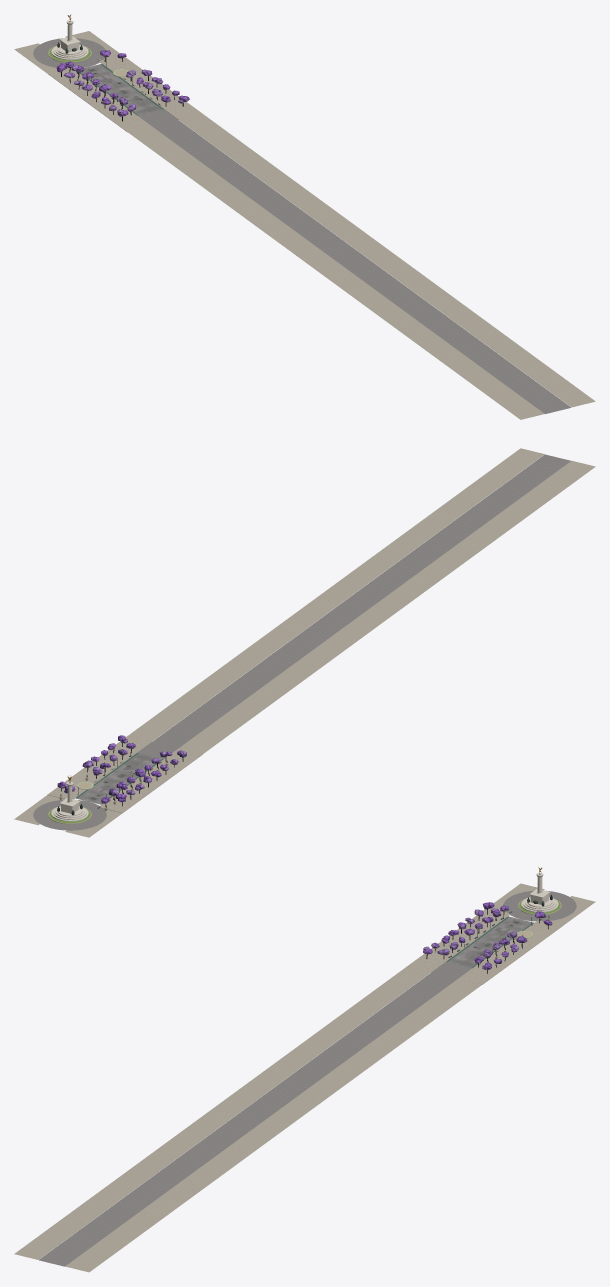
The model's file is lugar-cdmx.glb.
3 views of the same model, one above another, from view 1: azimuth 30°, elevation 25°; view 2: azimuth 150°, elevation 25°; view 3: azimuth 330°, elevation 25° (orthographic).
Parts seen in each view (by area): view 1: luzG-cerca, luzS-pista, vert-cerca; view 2: luzG-cerca, luzS-pista, vert-cerca; view 3: luzG-cerca, luzS-pista, vert-cerca.
Boxes of the visible parts, x1,y1,x2,y2 form: luzG-cerca: (14, 31, 595, 419); luzS-pista: (47, 20, 202, 132); vert-cerca: (56, 42, 189, 121); luzG-cerca: (14, 448, 595, 837); luzS-pista: (47, 736, 202, 824); vert-cerca: (57, 735, 186, 815); luzG-cerca: (14, 883, 595, 1272); luzS-pista: (407, 873, 562, 984); vert-cerca: (423, 895, 552, 973).
Bounding box in the file's own units: 52 × 25.92 × 606.
11 materials, 9 textured.
